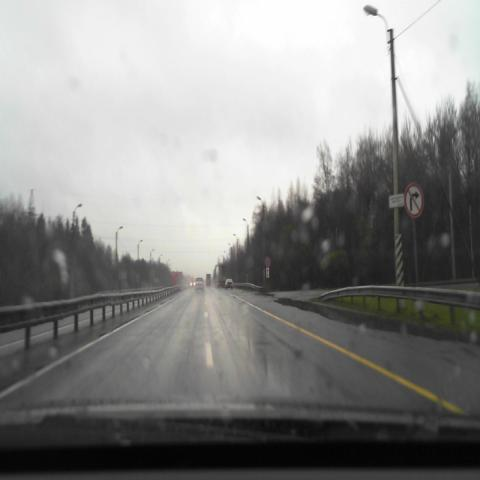3_18: (404, 181, 424, 218)
